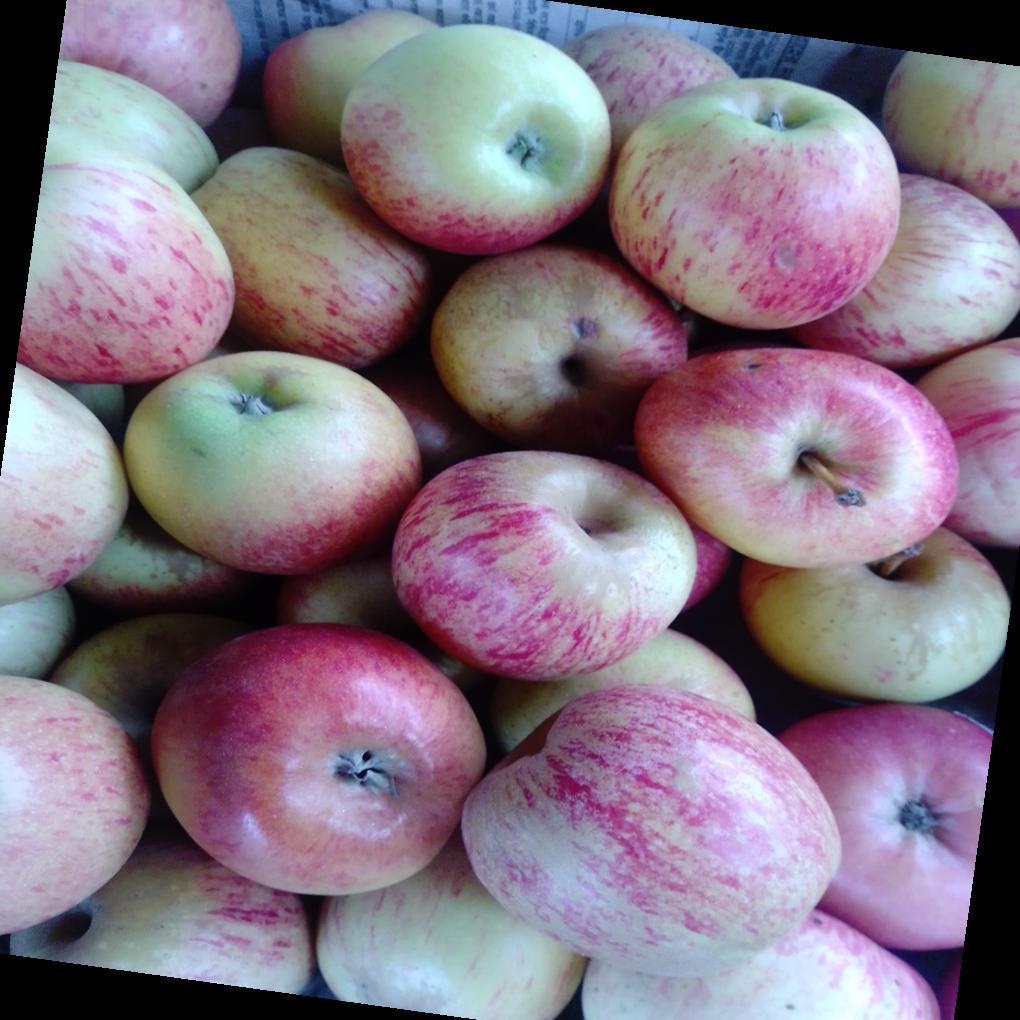FreshGuava: (32, 128, 1020, 971)
